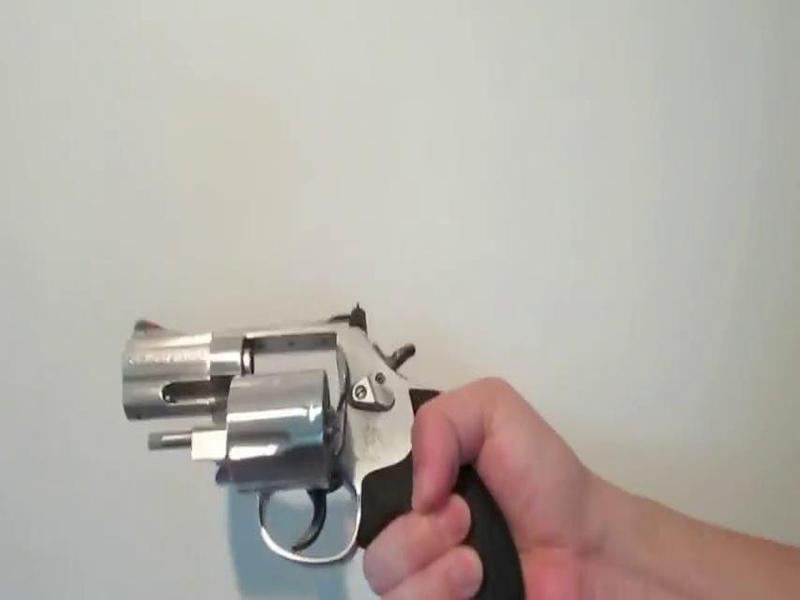Revolver: (110, 274, 541, 600)
